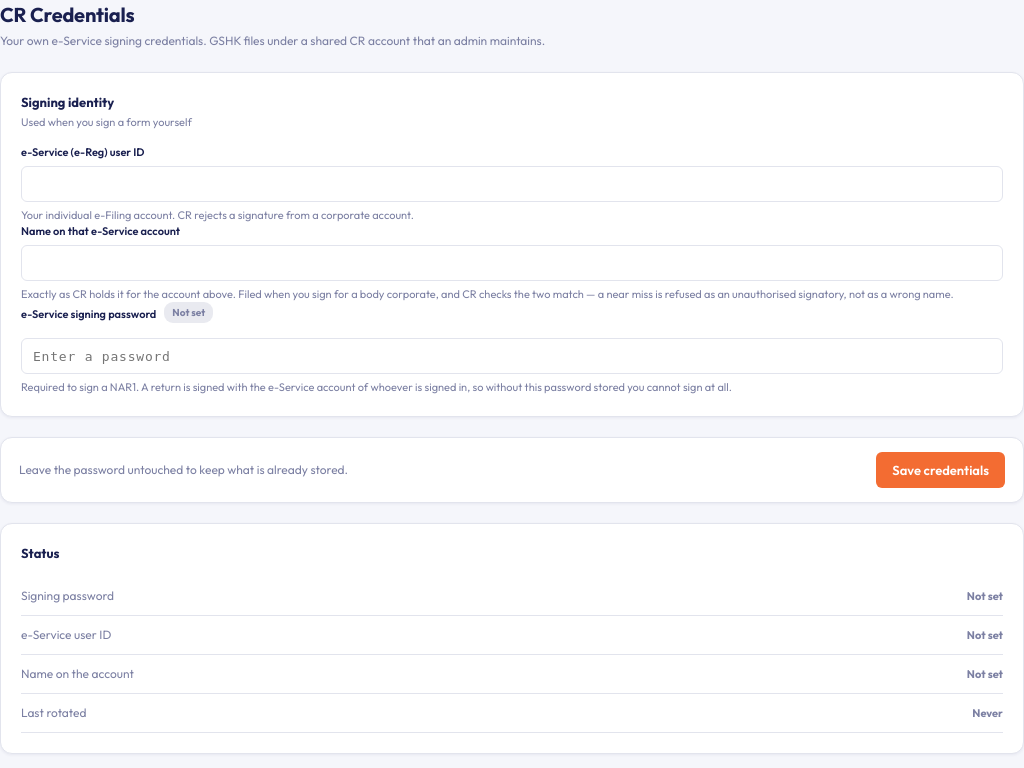
CrCredentialsPage — my e-Service signing › refuses to save with nothing identifying the signer
This screenshot has width=1024, height=768.
Check: the text "CR Credentials" is shown, box x1=0 y1=2 x2=134 y2=27
Check: the field labelled "e-Service (e-Reg) user ID" is shown, box x1=21 y1=166 x2=1003 y2=202
Click the button "Save credentials" at {"x": 941, "y": 470}, box x1=876 y1=452 x2=1005 y2=488
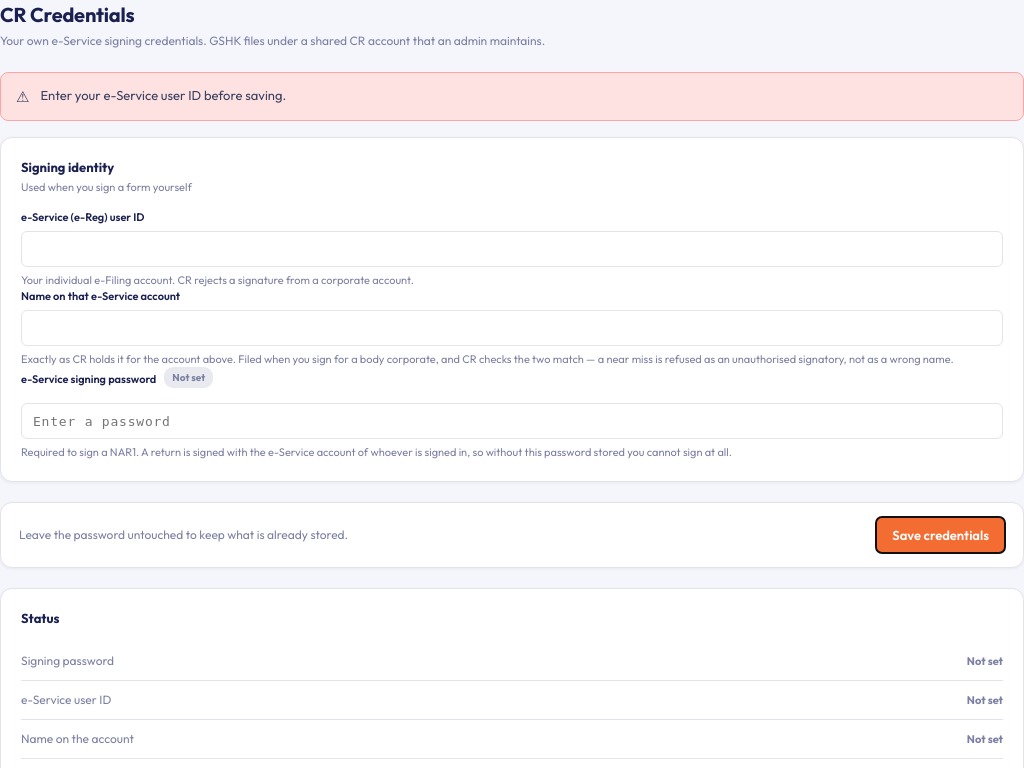
Check: the message shows "Enter your e-Service user ID", box x1=40 y1=87 x2=286 y2=103
